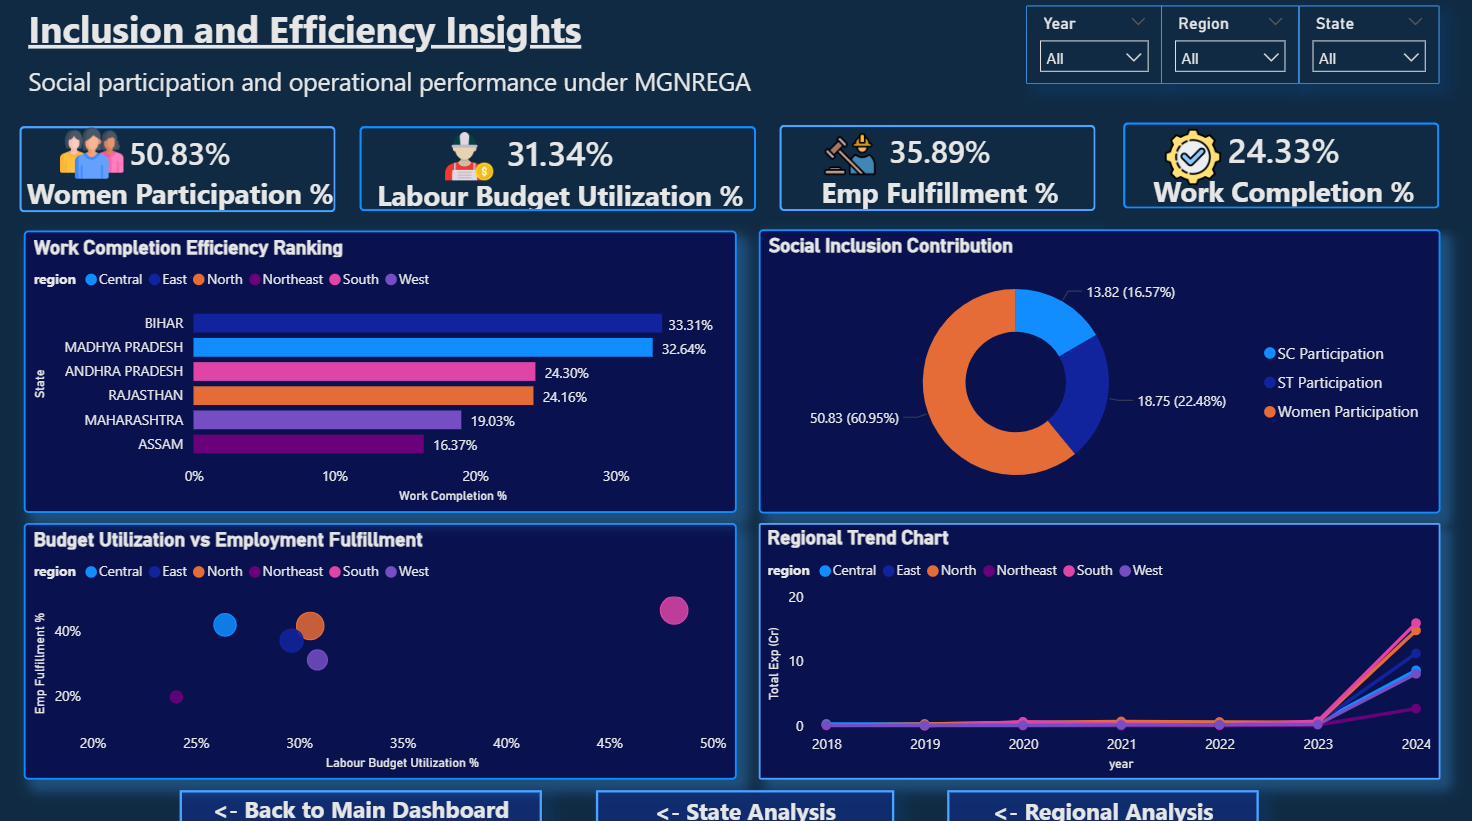

Layout of this report page (visuals, bound fields, positions):
{"tool":"powerbi","page":{"name":"Inclusion & Efficiency","canvas":[1280,720],"ordinal":3},"visuals":[{"type":"slicer","fields":{"Values":["mgnrega_state_year_dataset.year"]},"box":[892,6,118,68],"z":0},{"type":"slicer","fields":{"Values":["mgnrega_state_year_dataset.region"]},"box":[1010,6,120,68],"z":1000},{"type":"slicer","fields":{"Values":["mgnrega_state_year_dataset.state_name"]},"box":[1129.8,6.4,122.3,68.1],"z":2000},{"type":"actionButton","box":[155.2,687.7,316.6,32.5],"z":3000},{"type":"textbox","box":[19.4,0,563.9,55.6],"z":4000},{"type":"textbox","box":[19.4,52.8,706.9,40.3],"z":5000},{"type":"cardVisual","fields":{"Data":["mgnrega_state_year_dataset.Women Participation %"]},"box":[0,94.7,309.6,109.6],"z":6000},{"type":"cardVisual","fields":{"Data":["mgnrega_state_year_dataset.Employment Fulfillment %"]},"box":[661.1,93.1,309.7,109.7],"z":7000},{"type":"cardVisual","fields":{"Data":["mgnrega_state_year_dataset.Labour Budget Utilization %"]},"box":[295.7,94.7,379.8,108.5],"z":8000},{"type":"scatterChart","title":"Budget Utilization vs Employment Fulfillment","fields":{"X":["mgnrega_state_year_dataset.Labour Budget Utilization %"],"Y":["mgnrega_state_year_dataset.Emp Fulfillment %"],"Series":["mgnrega_state_year_dataset.region"],"Size":["mgnrega_state_year_dataset.Total Exp (Cr)"]},"box":[20.2,456.4,620.2,223.4],"z":9000},{"type":"donutChart","title":"Social Inclusion Contribution","fields":{"Y":["Avg(mgnrega_state_year_dataset.sc_participation_percent)","Avg(mgnrega_state_year_dataset.st_participation_percent)","Avg(mgnrega_state_year_dataset.women_participation_ratio)"]},"box":[659.6,201.1,592.6,246.8],"z":10000},{"type":"barChart","title":"Work Completion Efficiency Ranking","fields":{"Category":["mgnrega_state_year_dataset.state_name"],"Series":["mgnrega_state_year_dataset.region"],"Y":["mgnrega_state_year_dataset.Work Completion %"]},"box":[20.2,202.1,620.2,245.7],"z":11000},{"type":"cardVisual","fields":{"Data":["mgnrega_state_year_dataset.Work Completion %"]},"box":[959.7,91.7,309.7,109.7],"z":12000},{"type":"image","box":[51.7,106.7,55,56.7],"z":13000},{"type":"image","box":[713.3,106.7,51.7,58.3],"z":14000},{"type":"image","box":[373.3,115,70,45],"z":15000},{"type":"image","box":[1010,113.3,55,50],"z":16000},{"type":"lineChart","title":"Regional Trend Chart","fields":{"Category":["mgnrega_state_year_dataset.year"],"Y":["mgnrega_state_year_dataset.Total Exp (Cr)"],"Series":["mgnrega_state_year_dataset.region"]},"box":[659.6,456.4,592.6,223.4],"z":17000},{"type":"actionButton","box":[517.9,687.7,261,32.5],"z":18000},{"type":"actionButton","box":[823,687.7,272.6,32.5],"z":19000}]}

Visuals, with their boxes in screenshot pixels (x1, y1, x2, y2), scaled from the page's 1280x720 canvas onto the 1472x821 screenshot:
slicer - mgnrega_state_year_dataset.year: pyautogui.locateOnScreen(1026, 7, 1162, 84)
slicer - mgnrega_state_year_dataset.region: pyautogui.locateOnScreen(1162, 7, 1300, 84)
slicer - mgnrega_state_year_dataset.state_name: pyautogui.locateOnScreen(1299, 7, 1440, 85)
actionButton: pyautogui.locateOnScreen(178, 784, 543, 820)
textbox: pyautogui.locateOnScreen(22, 0, 671, 63)
textbox: pyautogui.locateOnScreen(22, 60, 835, 106)
cardVisual - mgnrega_state_year_dataset.Women Participation %: pyautogui.locateOnScreen(0, 108, 356, 233)
cardVisual - mgnrega_state_year_dataset.Employment Fulfillment %: pyautogui.locateOnScreen(760, 106, 1116, 231)
cardVisual - mgnrega_state_year_dataset.Labour Budget Utilization %: pyautogui.locateOnScreen(340, 108, 777, 232)
"Budget Utilization vs Employment Fulfillment" scatterChart: pyautogui.locateOnScreen(23, 520, 736, 775)
"Social Inclusion Contribution" donutChart: pyautogui.locateOnScreen(759, 229, 1440, 511)
"Work Completion Efficiency Ranking" barChart: pyautogui.locateOnScreen(23, 230, 736, 511)
cardVisual - mgnrega_state_year_dataset.Work Completion %: pyautogui.locateOnScreen(1104, 105, 1460, 230)
image: pyautogui.locateOnScreen(59, 122, 123, 186)
image: pyautogui.locateOnScreen(820, 122, 880, 188)
image: pyautogui.locateOnScreen(429, 131, 510, 182)
image: pyautogui.locateOnScreen(1162, 129, 1225, 186)
"Regional Trend Chart" lineChart: pyautogui.locateOnScreen(759, 520, 1440, 775)
actionButton: pyautogui.locateOnScreen(596, 784, 896, 820)
actionButton: pyautogui.locateOnScreen(946, 784, 1260, 820)
